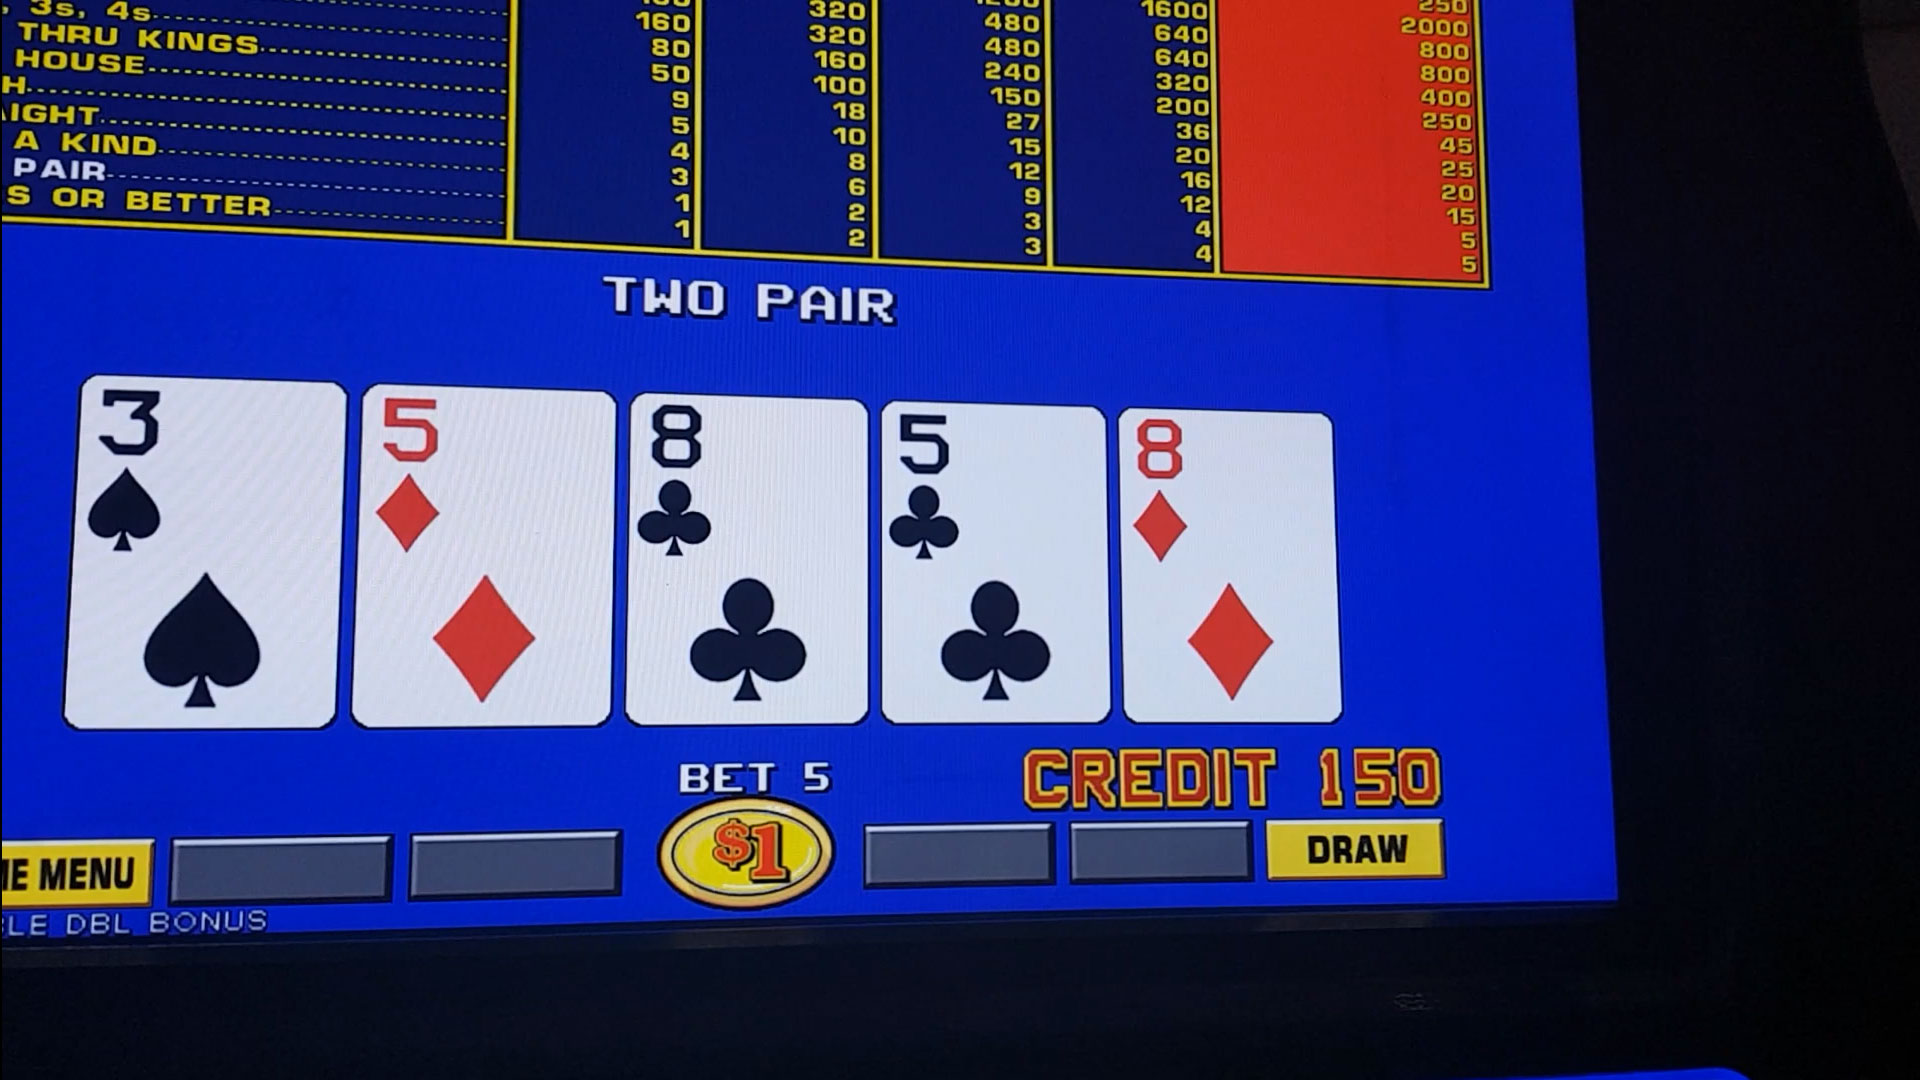C5: (887, 410, 1096, 575)
C8: (632, 401, 865, 576)
D5: (367, 394, 611, 567)
D8: (1125, 415, 1329, 580)
S3: (84, 386, 340, 567)
